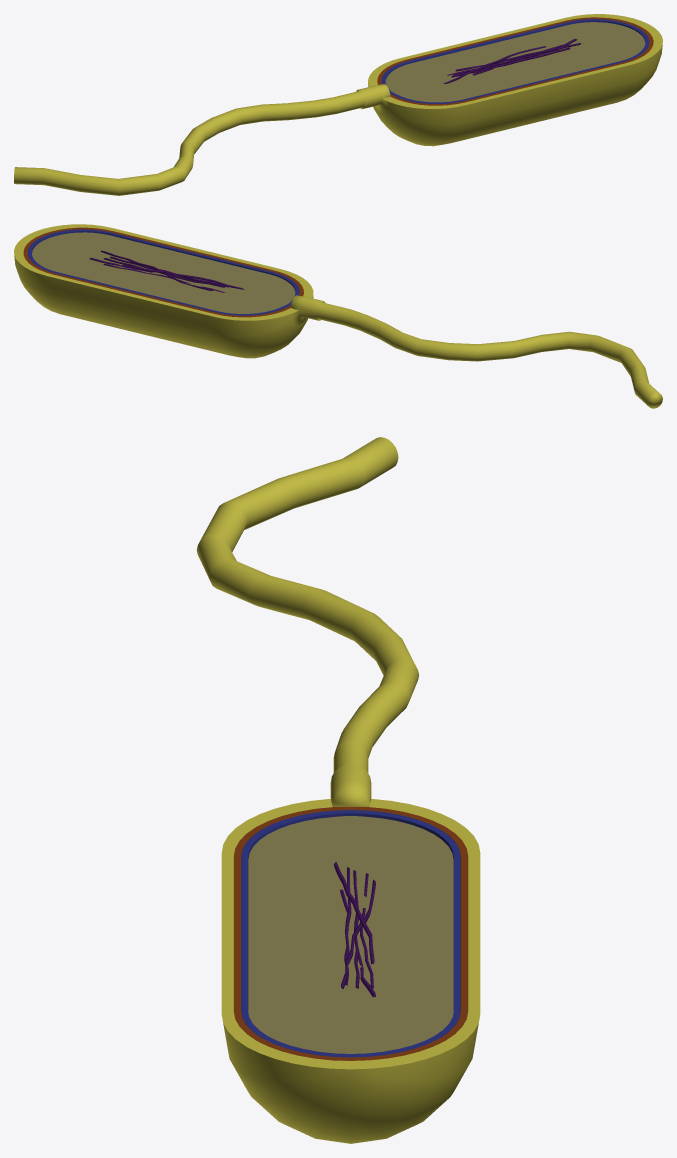
Rendered from Prokaryotic.obj.
3 views of the same model, one above another, from view 1: azimuth 30°, elevation 25°; view 2: azimuth 150°, elevation 25°; view 3: azimuth 270°, elevation 25° (orthographic). The views are drawn at different scales.
Visible parts, largest first — view 1: Prokaryotic Prokaryotic, Prokaryotic Ribosome_Goo, Prokaryotic Prokaryotic_Membrane1, Prokaryotic Prokaryotic_Cell_Wall, Prokaryotic Prokaryotic_DNA DNA_Strand2, Prokaryotic Prokaryotic_DNA DNA_Strand5; view 2: Prokaryotic Prokaryotic, Prokaryotic Ribosome_Goo, Prokaryotic Prokaryotic_Membrane1, Prokaryotic Prokaryotic_Cell_Wall, Prokaryotic Prokaryotic_DNA DNA_Strand4; view 3: Prokaryotic Prokaryotic, Prokaryotic Ribosome_Goo, Prokaryotic Prokaryotic_Membrane1, Prokaryotic Prokaryotic_Cell_Wall.
Part boxes in pixels (x1,y1,x2,y2): Prokaryotic Prokaryotic: [14, 14, 662, 195]; Prokaryotic Ribosome_Goo: [385, 22, 645, 102]; Prokaryotic Prokaryotic_Membrane1: [381, 19, 649, 103]; Prokaryotic Prokaryotic_Cell_Wall: [377, 17, 653, 105]; Prokaryotic Prokaryotic_DNA DNA_Strand2: [451, 47, 570, 77]; Prokaryotic Prokaryotic_DNA DNA_Strand5: [455, 43, 580, 71]; Prokaryotic Prokaryotic: [14, 224, 662, 408]; Prokaryotic Ribosome_Goo: [32, 232, 295, 313]; Prokaryotic Prokaryotic_Membrane1: [28, 229, 299, 315]; Prokaryotic Prokaryotic_Cell_Wall: [23, 227, 303, 317]; Prokaryotic Prokaryotic_DNA DNA_Strand4: [122, 264, 244, 289]; Prokaryotic Prokaryotic: [196, 437, 480, 1143]; Prokaryotic Ribosome_Goo: [248, 816, 453, 1053]; Prokaryotic Prokaryotic_Membrane1: [241, 810, 460, 1057]; Prokaryotic Prokaryotic_Cell_Wall: [234, 807, 467, 1060].
Bounding box in the file's own units: 284 × 28.91 × 54.84.
